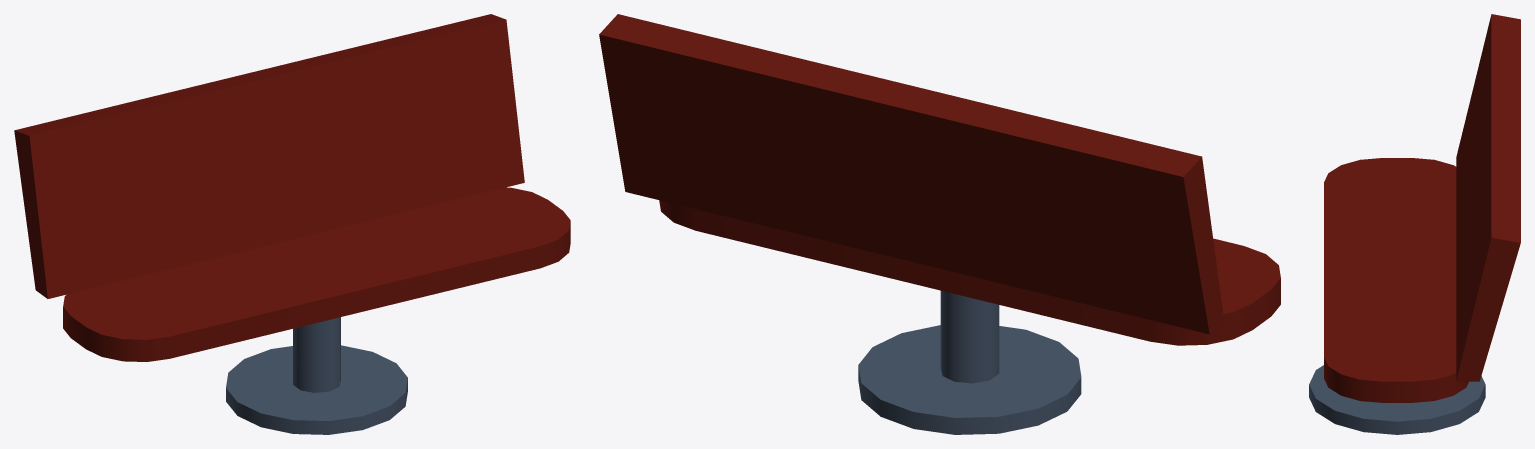
Rendered from bench_float.glb.
3 views of the same model, side by side, from view 1: azimuth 30°, elevation 25°; view 2: azimuth 150°, elevation 25°; view 3: azimuth 270°, elevation 25° (orthographic). The views are drawn at different scales.
Visible parts, largest first — view 1: bench_float; view 2: bench_float; view 3: bench_float.
Boxes of the visible parts, x1=… form: bench_float: x1=14, y1=14, x2=570, y2=434; bench_float: x1=599, y1=14, x2=1280, y2=434; bench_float: x1=1309, y1=14, x2=1520, y2=434.
Bounding box in the file's own units: 1.8 × 1.02 × 0.72.
